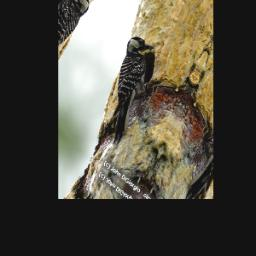Woodpecker: (89, 29, 169, 155)
